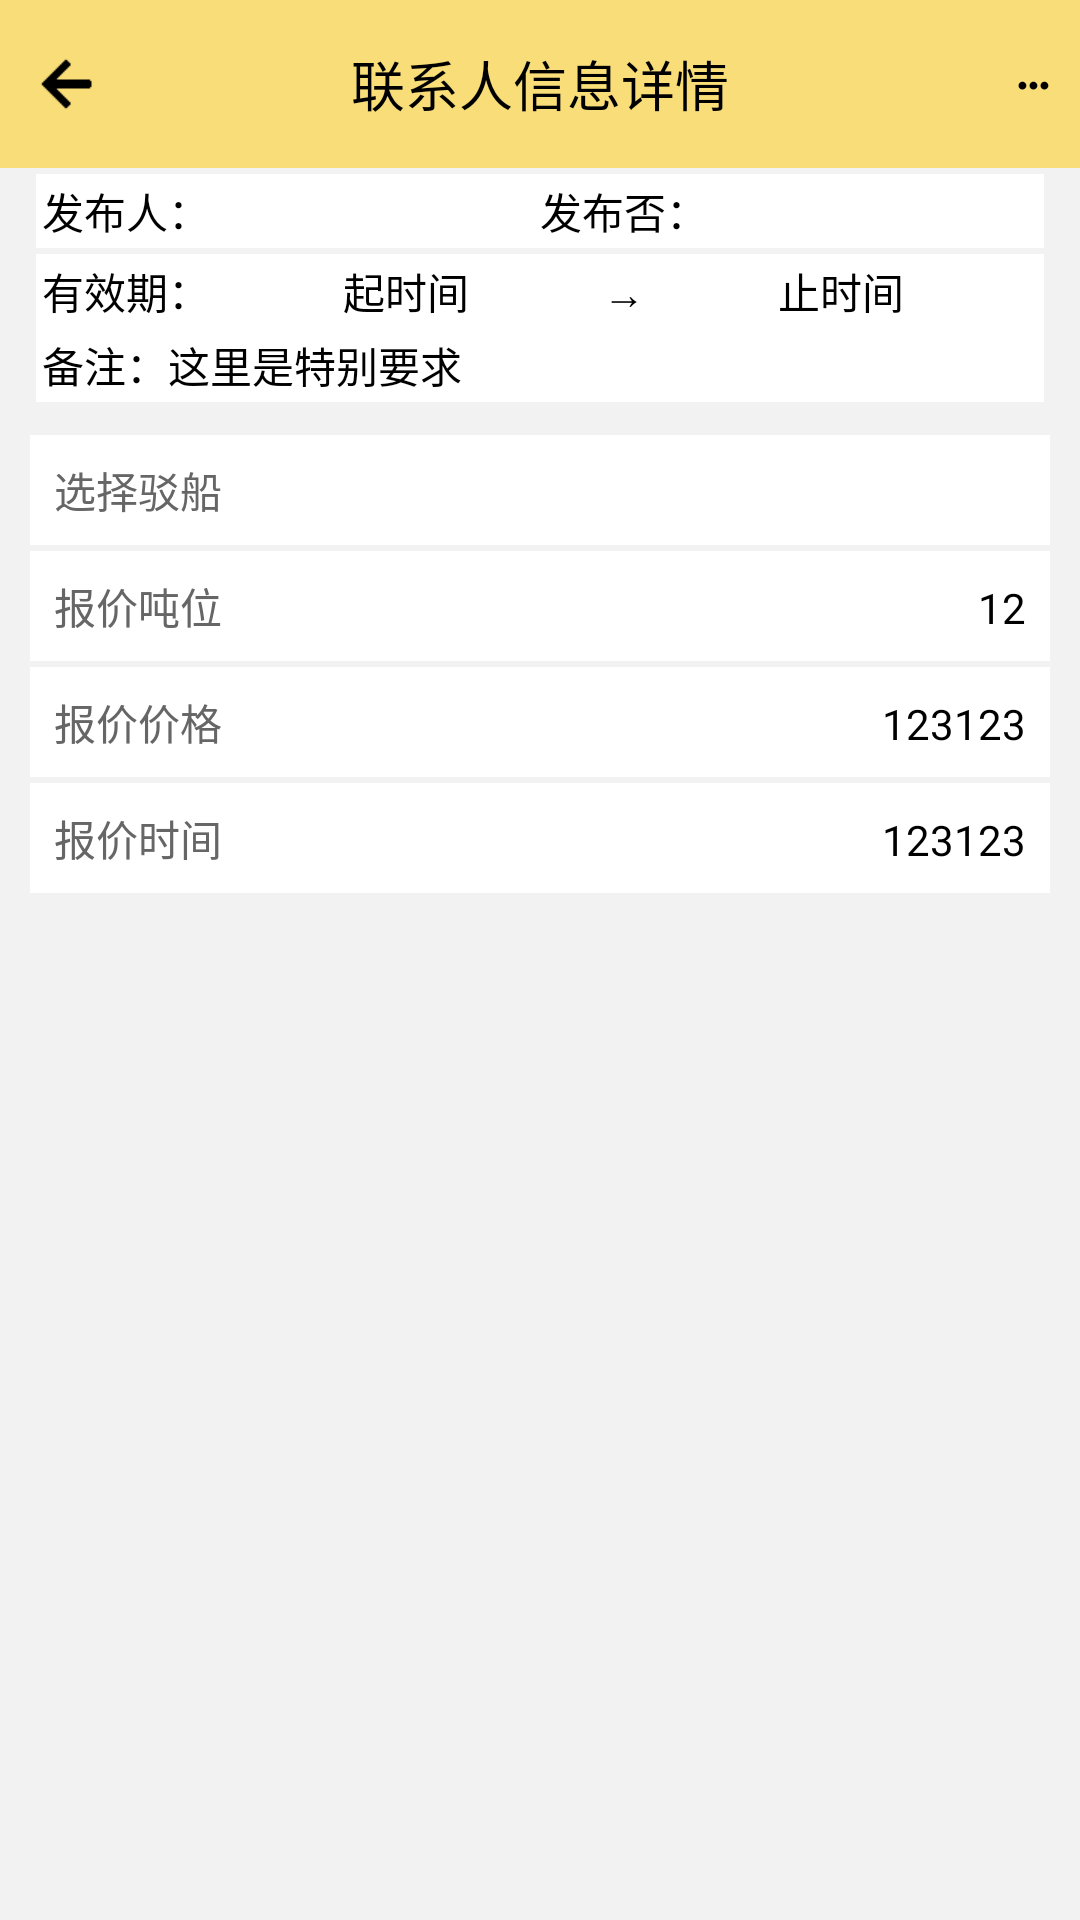

Screen size 1080w x 1920h. Icon name, then its box in pixels as (x1, y1, x2, y2):
back: (41, 59, 92, 109)
